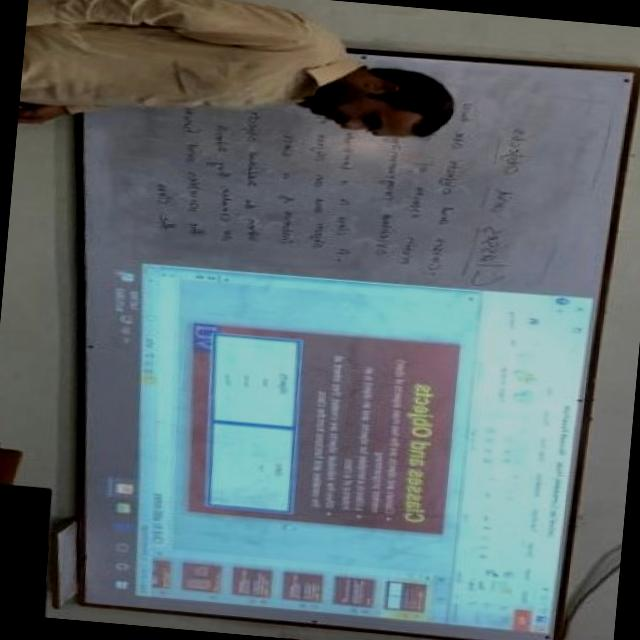Instructor: (17, 0, 471, 146)
Slide: (99, 260, 593, 636)
White-board: (73, 30, 637, 640)
